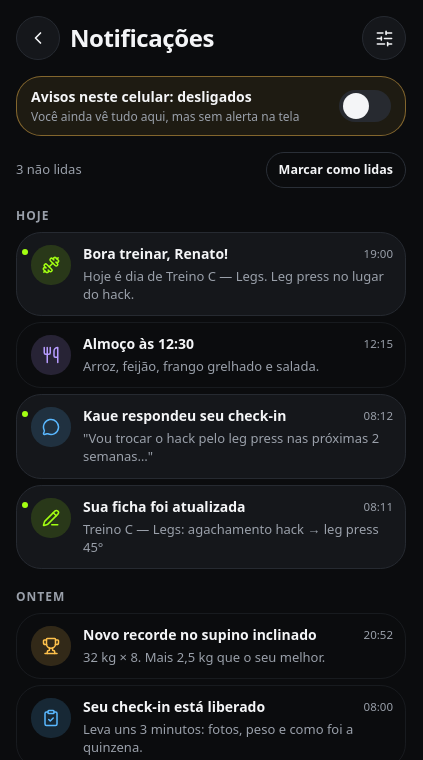
Test case: Notificações › avisos neste celular: pede a permissão do navegador ao ligar
Expected: the element "Hoje" is shown, [16,204,406,569]
Expected: the text "Avisos neste celular: desligados" is shown, [31,87,252,106]
Click the switch named "Avisos neste celular" at (365, 106), box [339,90,391,122]
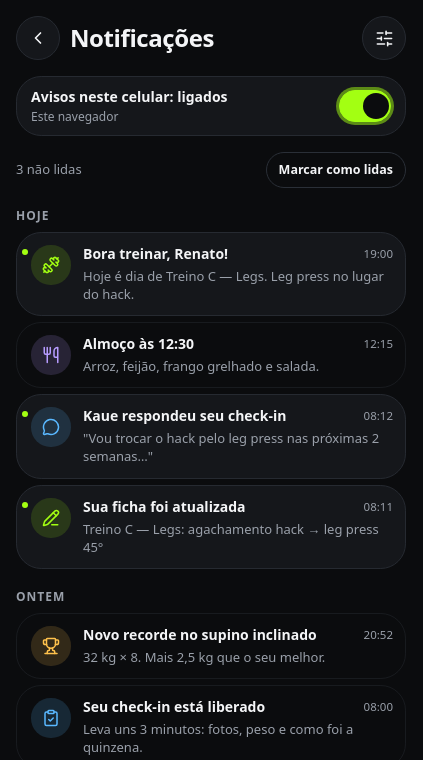
Expected: the text "Avisos neste celular: ligados" is shown, [31,87,228,106]
